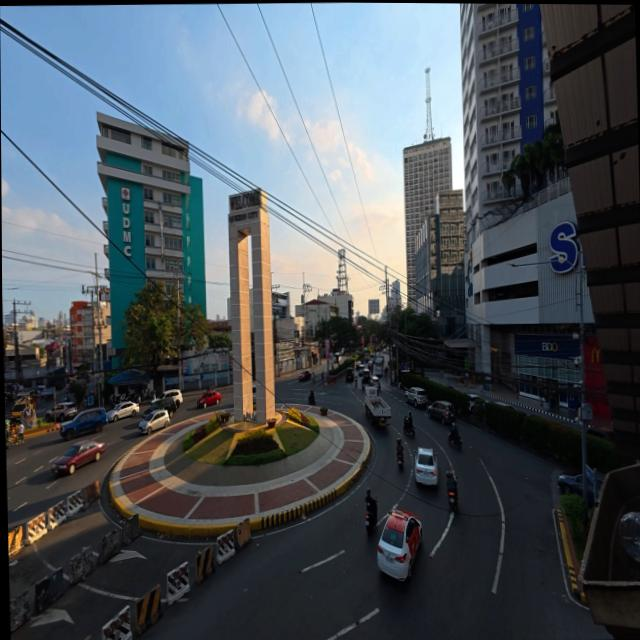bus: (373, 356, 384, 378)
car: (377, 510, 422, 580), (51, 441, 105, 475), (60, 408, 107, 441), (413, 447, 438, 486), (138, 409, 169, 434), (142, 398, 177, 419), (45, 402, 78, 421), (428, 401, 455, 424), (108, 402, 139, 421), (558, 474, 583, 496), (406, 387, 427, 408), (197, 390, 221, 408), (158, 389, 182, 407), (587, 427, 614, 441), (468, 393, 485, 411), (494, 401, 516, 410), (299, 370, 311, 381), (371, 377, 381, 389), (345, 369, 354, 382), (362, 369, 370, 383), (356, 362, 364, 374)
motorcycle: (366, 499, 377, 535), (448, 429, 462, 448), (448, 490, 458, 512), (403, 422, 414, 437), (143, 390, 155, 402), (130, 392, 141, 404), (397, 452, 403, 468), (308, 396, 316, 406)
trucks: (365, 387, 391, 427)
